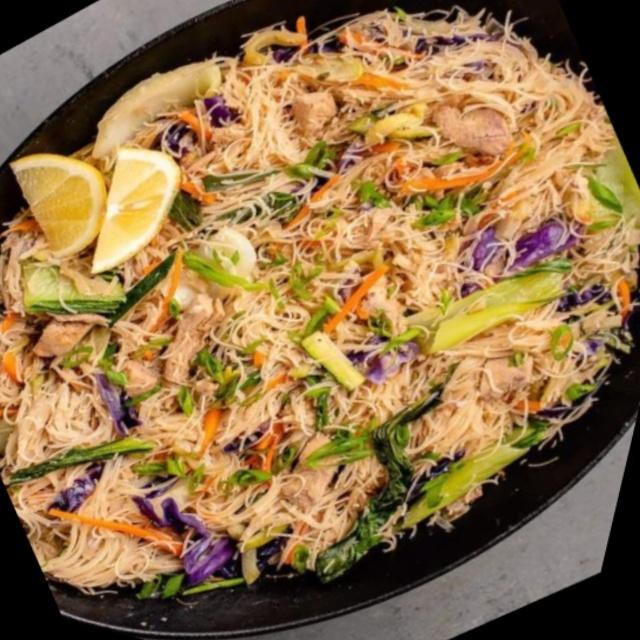pancit bihon: (0, 14, 639, 578)
